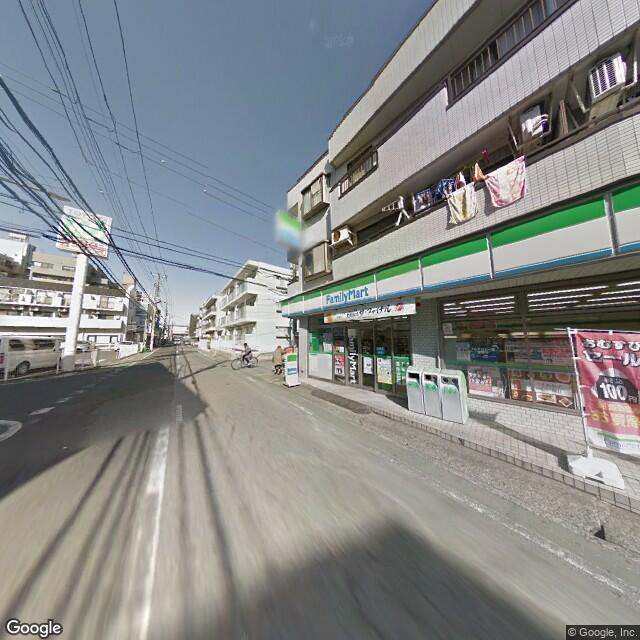family_mart: (278, 179, 638, 322), (325, 284, 370, 309), (286, 350, 301, 380)
